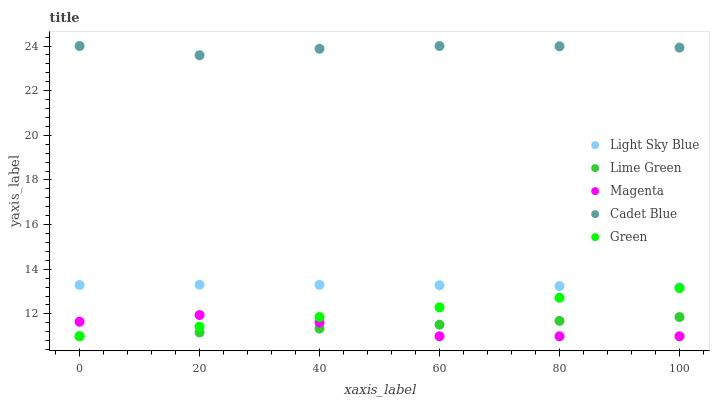axis: (57, 345, 712, 359), (42, 31, 56, 349)
legend: (583, 124, 708, 254)
point: (552, 331, 566, 343), (671, 42, 685, 53), (553, 41, 565, 53), (431, 278, 443, 290), (316, 44, 327, 56), (675, 329, 686, 341), (195, 51, 207, 61), (436, 39, 446, 51), (553, 279, 565, 289), (555, 292, 564, 305), (73, 278, 84, 288), (195, 310, 204, 322), (676, 283, 686, 293), (674, 312, 684, 322), (555, 316, 565, 326), (437, 319, 446, 330), (436, 302, 444, 313), (436, 332, 446, 340), (74, 318, 83, 326), (74, 43, 84, 50), (195, 281, 202, 291), (195, 323, 203, 331), (316, 327, 326, 333), (72, 333, 84, 338), (317, 312, 324, 319), (316, 321, 325, 326), (317, 283, 323, 289)
